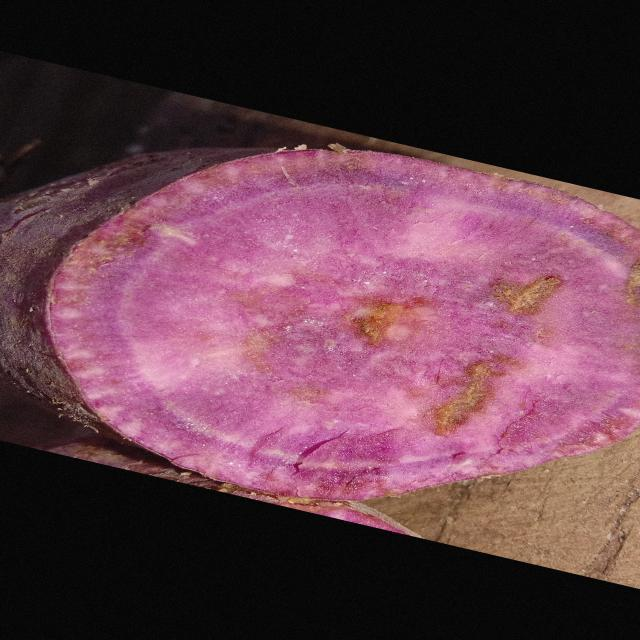Sick Sweet Potato_Tuber Rot: (49, 150, 638, 500)
